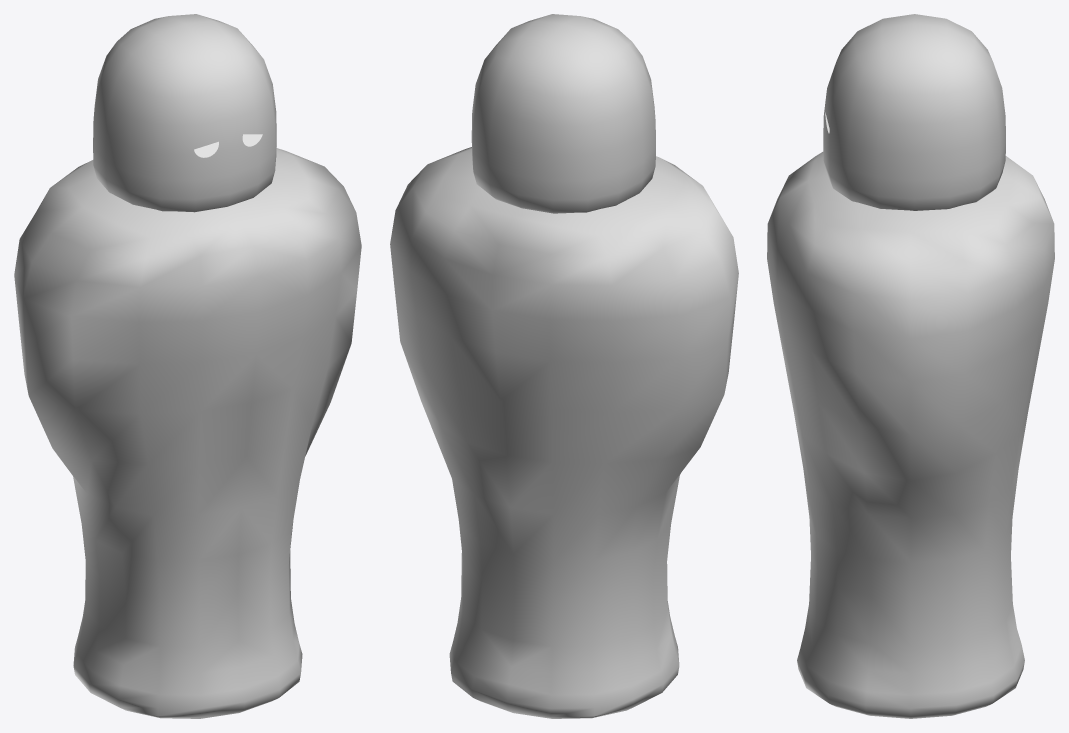
Rendered from npccharacter.glb.
3 renders of one model, left to right at view 1: azimuth 30°, elevation 25°; view 2: azimuth 150°, elevation 25°; view 3: azimuth 270°, elevation 25°, orthographic.
Parts seen in each view (by area): view 1: shader1, shader2; view 2: shader1, shader2; view 3: shader1, shader2.
Part boxes in pixels (box(x1,y1,x2,y2)): shader1: box(14, 148, 361, 718); shader2: box(93, 14, 276, 212); shader1: box(390, 147, 738, 718); shader2: box(471, 14, 655, 213); shader1: box(767, 152, 1054, 718); shader2: box(823, 14, 1005, 210).
Size of the model in its own units: 2.83 by 5.4 by 2.14.
Materials: 2 (1 with a texture image).
